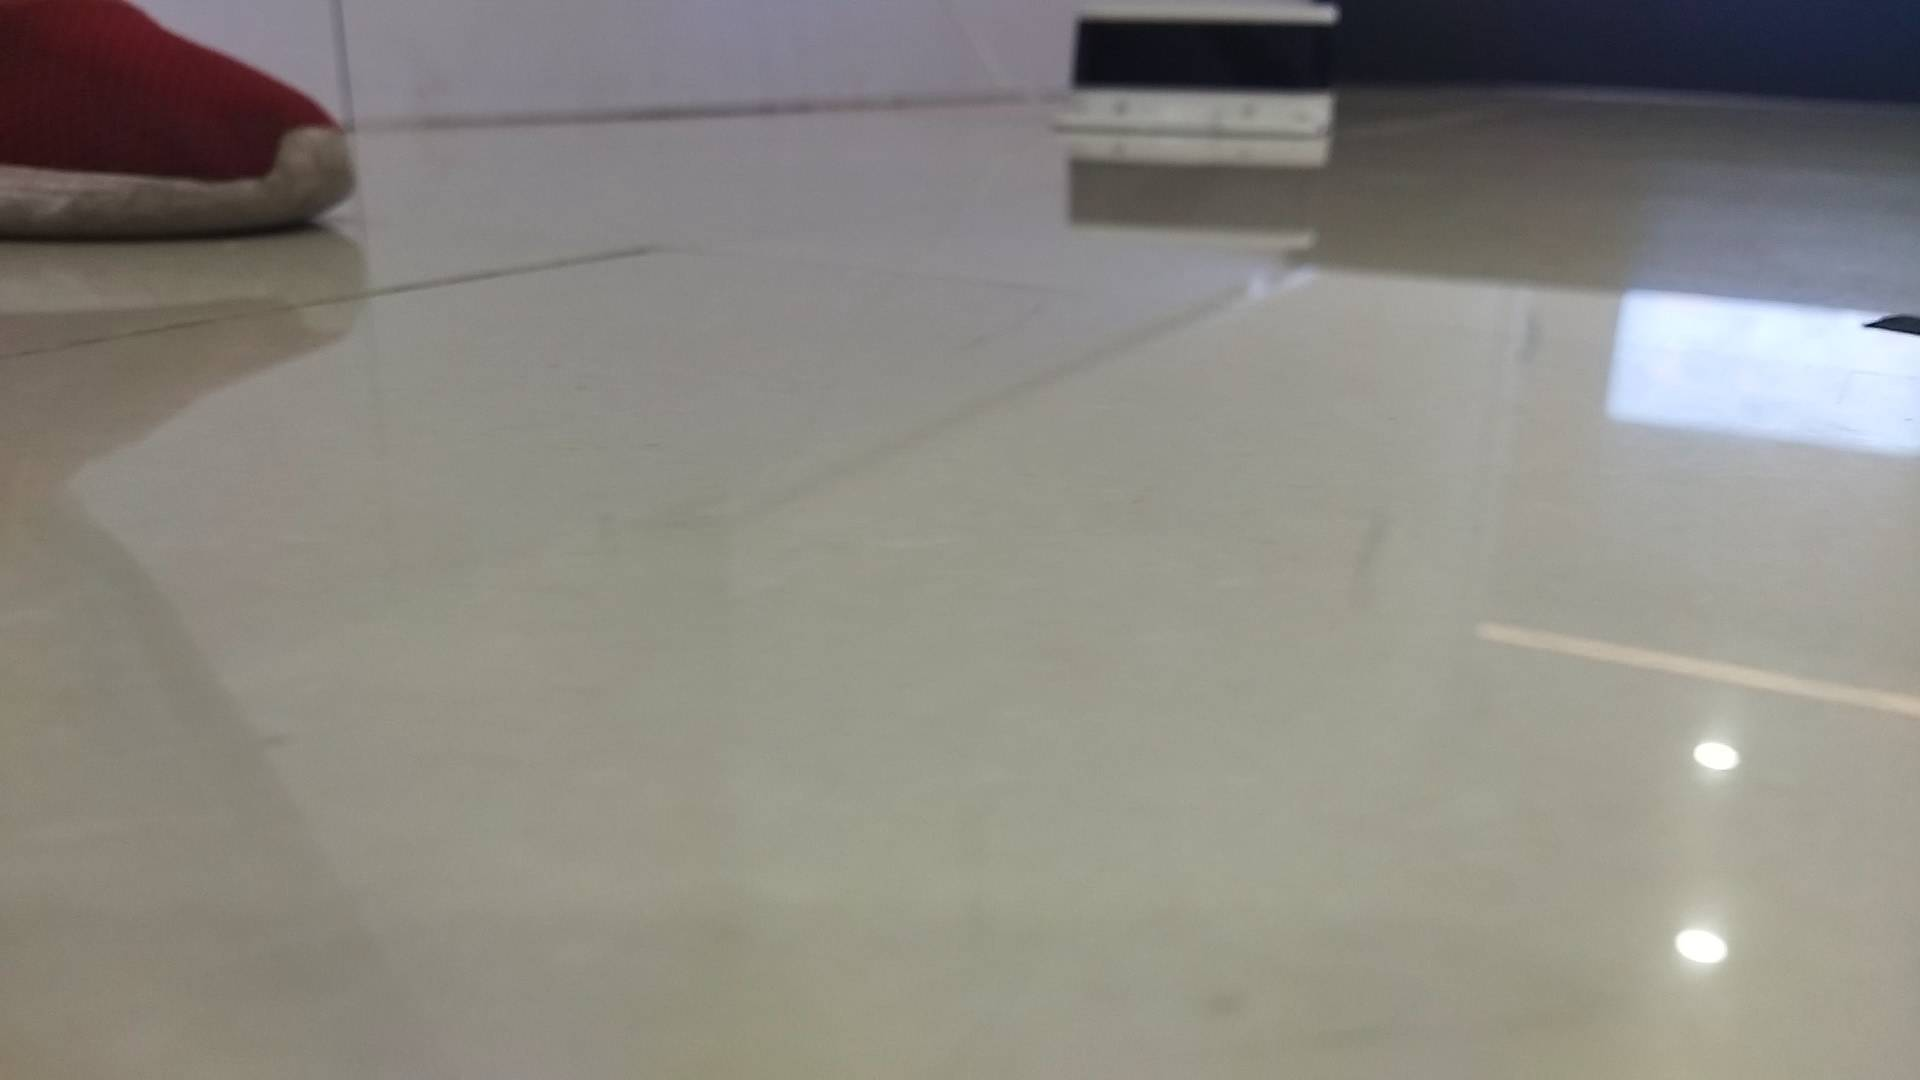recharge seat: (1048, 1, 1338, 140)
